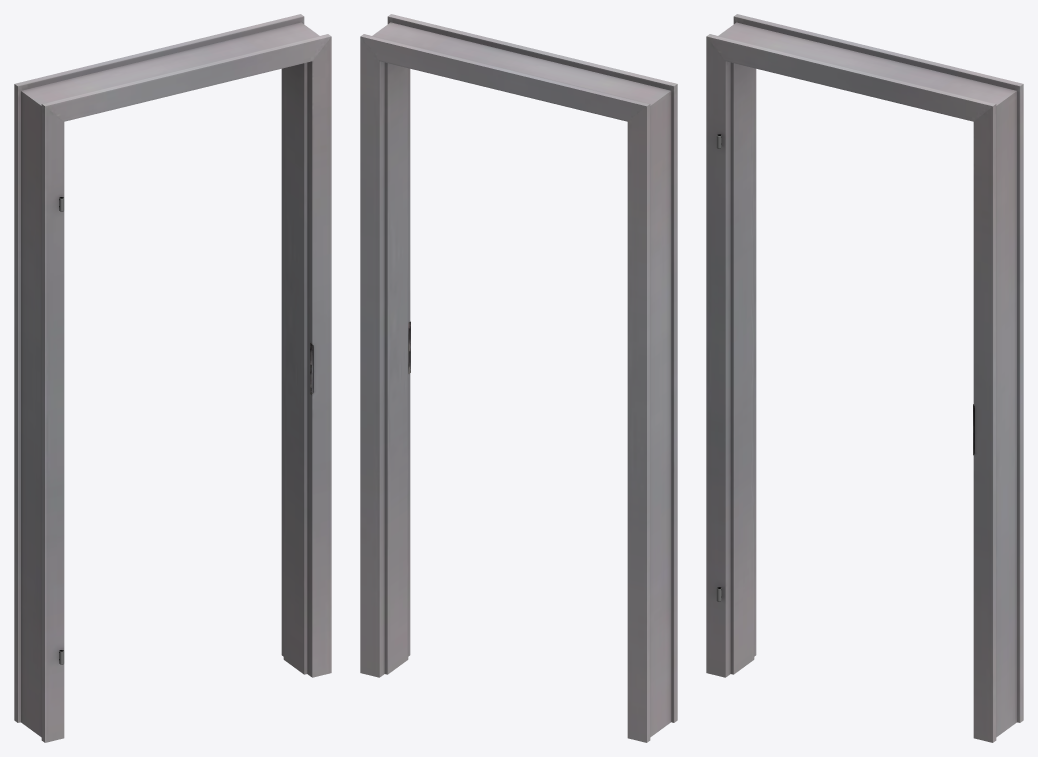
Rendered from door_frame.glb.
3 renders of one model, left to right at view 1: azimuth 30°, elevation 25°; view 2: azimuth 150°, elevation 25°; view 3: azimuth 330°, elevation 25°, orthographic.
Parts seen in each view (by area): view 1: Plane.002; view 2: Plane.002; view 3: Plane.002.
Part boxes in pixels (x1,y1,x2,y2): Plane.002: (14,14,331,742); Plane.002: (360,14,677,742); Plane.002: (706,14,1023,742).
Bounding box in the file's own units: 0.97 × 2.06 × 0.1991.
2 materials, 2 textured.
